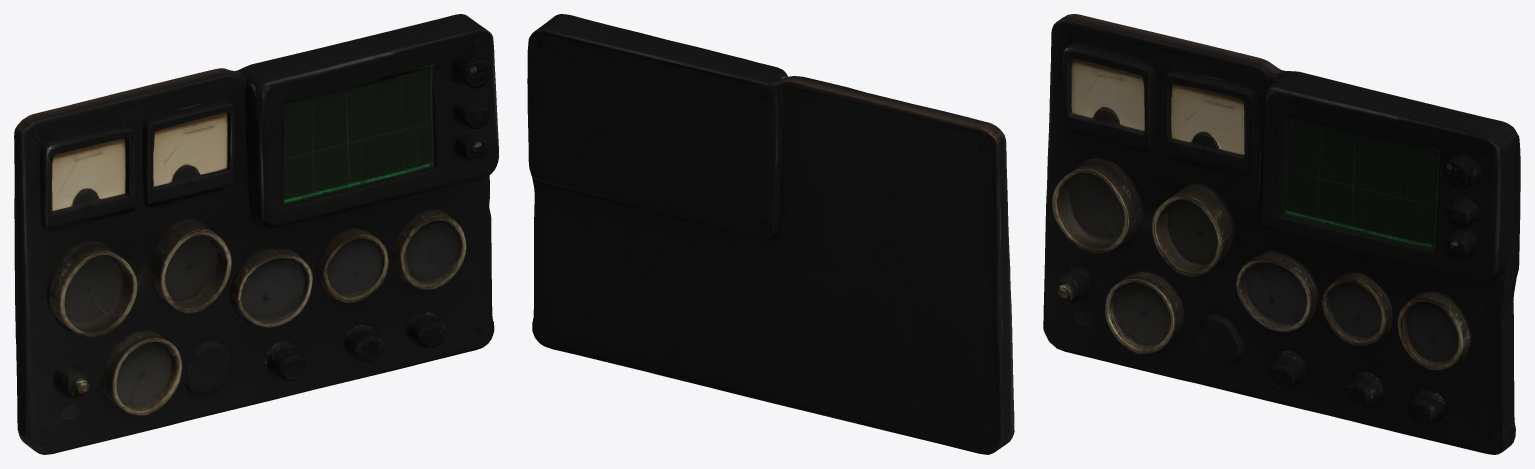
File: boat_dashboard.glb
The picture shows the model from 3 angles, left to right: view 1: azimuth 30°, elevation 25°; view 2: azimuth 150°, elevation 25°; view 3: azimuth 330°, elevation 25°; orthographic projection. The views are drawn at different scales.
Visible parts, largest first — view 1: world; view 2: world; view 3: world.
Boxes of the visible parts, x1,y1,x2,y2 form: world: (14,14,498,454); world: (527,14,1014,454); world: (1043,14,1520,454).
Size of the model in its own units: 0.9996 by 0.6762 by 0.1377.
1 material, 1 textured.
